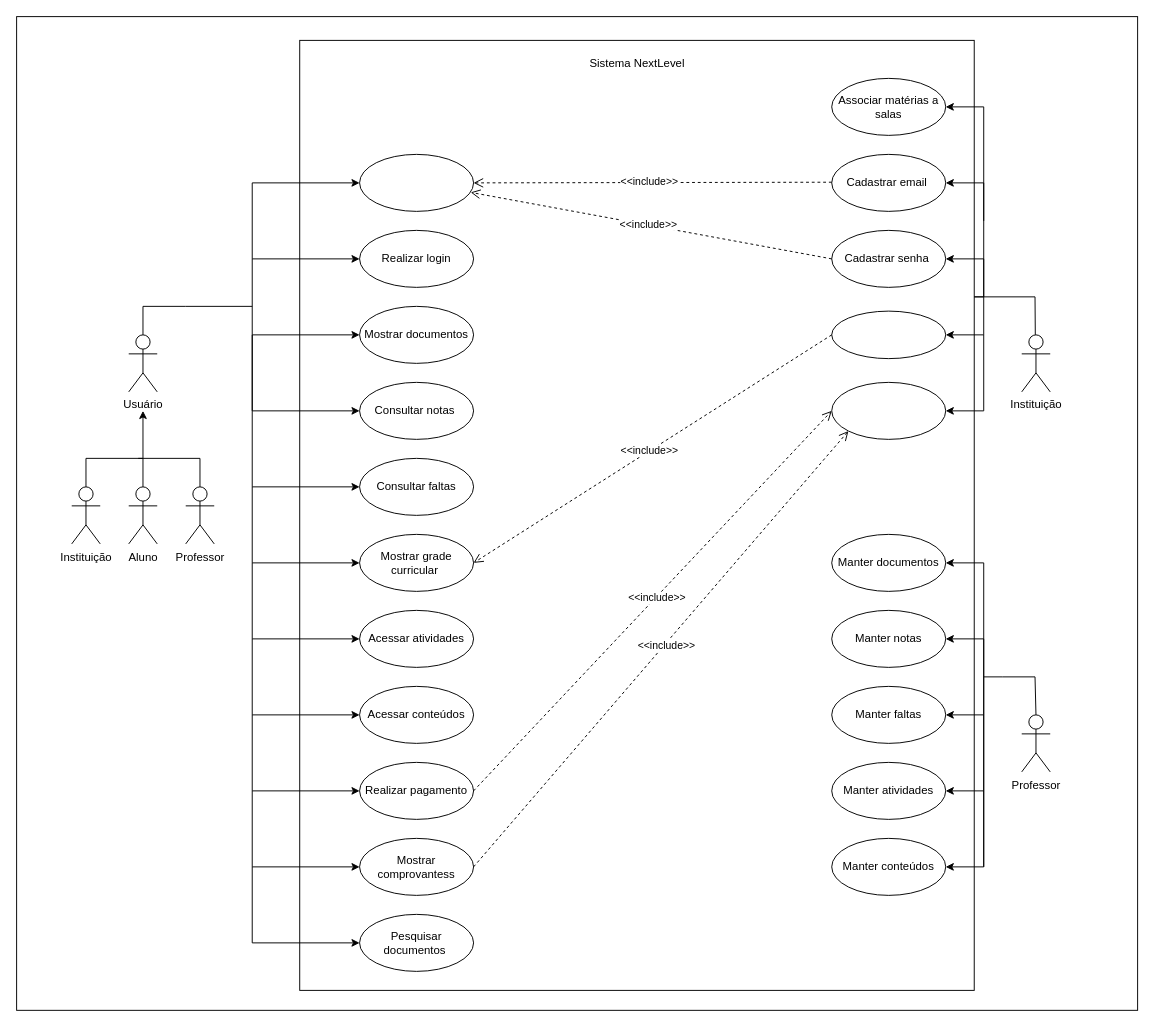
The diagram is 1154 pixels wide and 1027 high, and some of its shapes have lost their labels. The centre of each missing label's shape, as x and y in pixels:
Confirmar pagamento: (x=888, y=410)
Criar salas e turmas: (x=888, y=334)
Manter usuário: (x=416, y=182)
